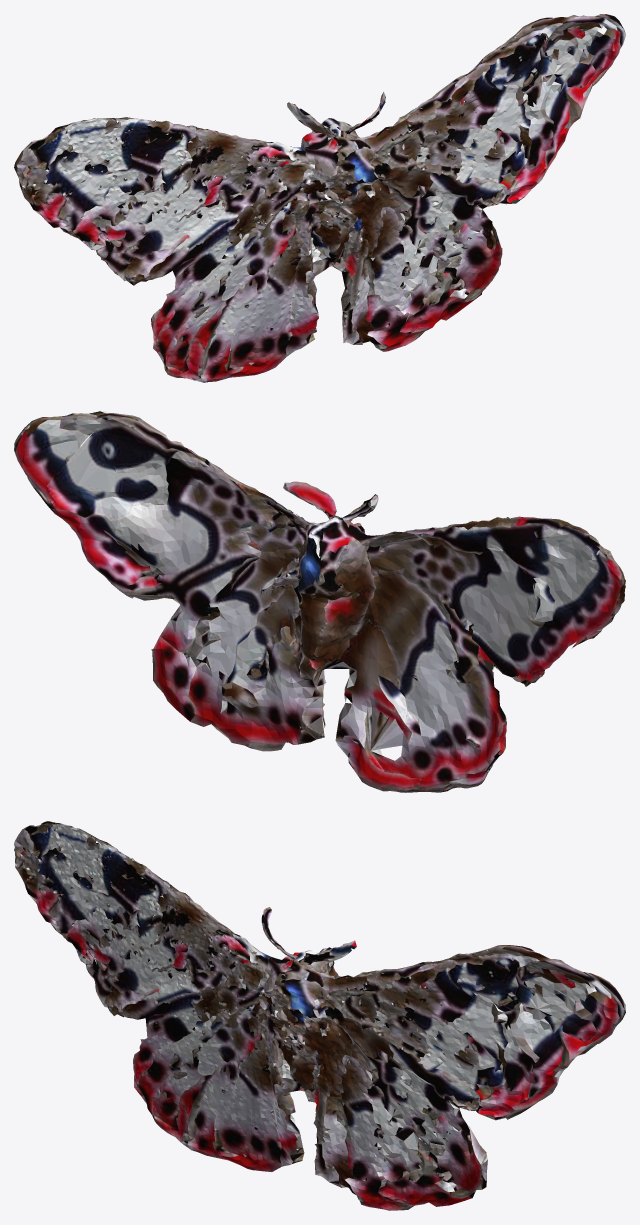
File: textured_paint3d.glb
The picture shows the model from 3 angles, top to bottom: view 1: azimuth 30°, elevation 25°; view 2: azimuth 150°, elevation 25°; view 3: azimuth 330°, elevation 25°; orthographic projection.
Parts seen in each view (by area): view 1: Node-Mesh; view 2: Node-Mesh; view 3: Node-Mesh.
Part boxes in pixels (x1,y1,x2,y2): Node-Mesh: (14,14,625,382); Node-Mesh: (14,411,625,792); Node-Mesh: (14,821,625,1210).
Size of the model in its own units: 2 by 0.9521 by 0.2482.
1 material, 1 textured.
